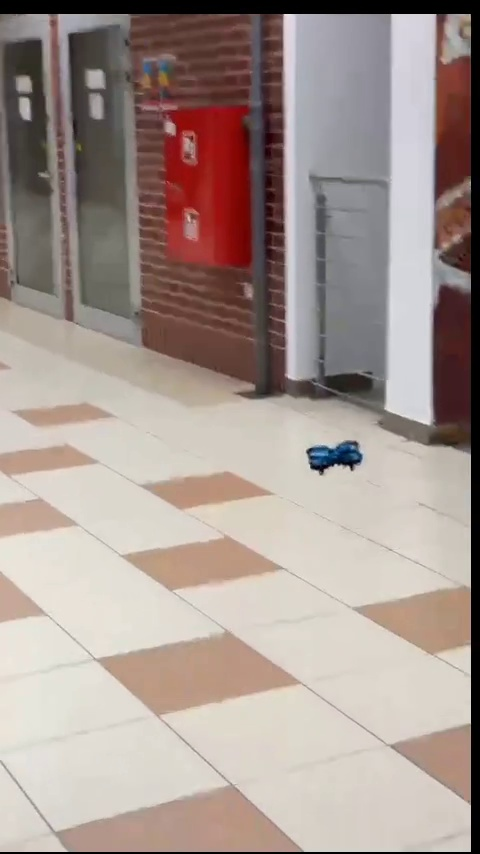drone: (301, 442, 367, 481)
